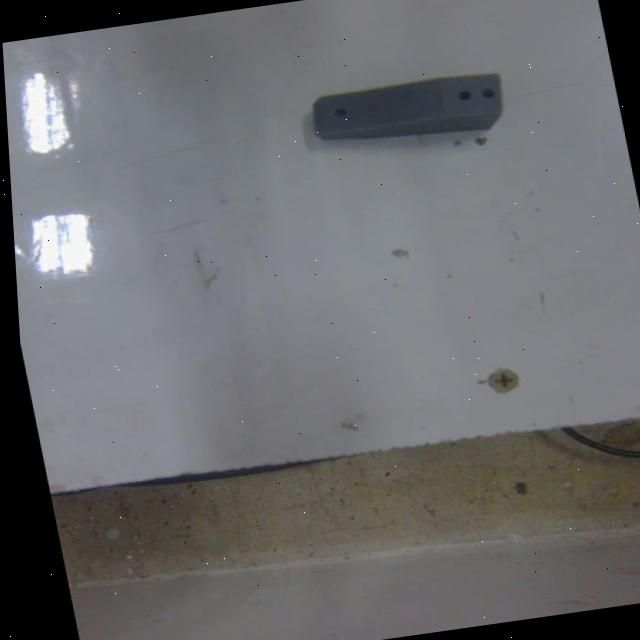grey: (302, 64, 514, 158)
head: (330, 104, 351, 120)
